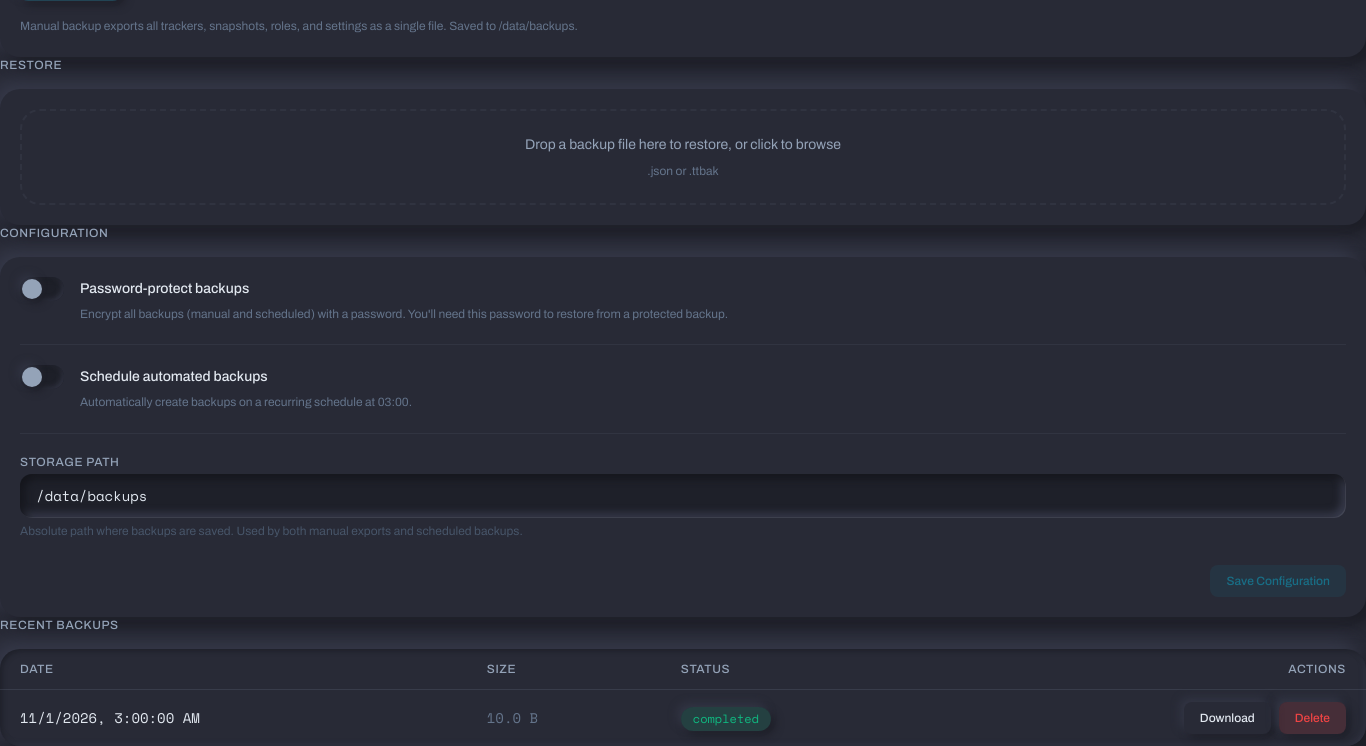
Test case: BackupsSection errors › shows a failed download once, in Recent Backups
(page scrolled)
Click the button "Download" at [1227, 718], box x1=1184 y1=702 x2=1271 y2=734
(page scrolled)
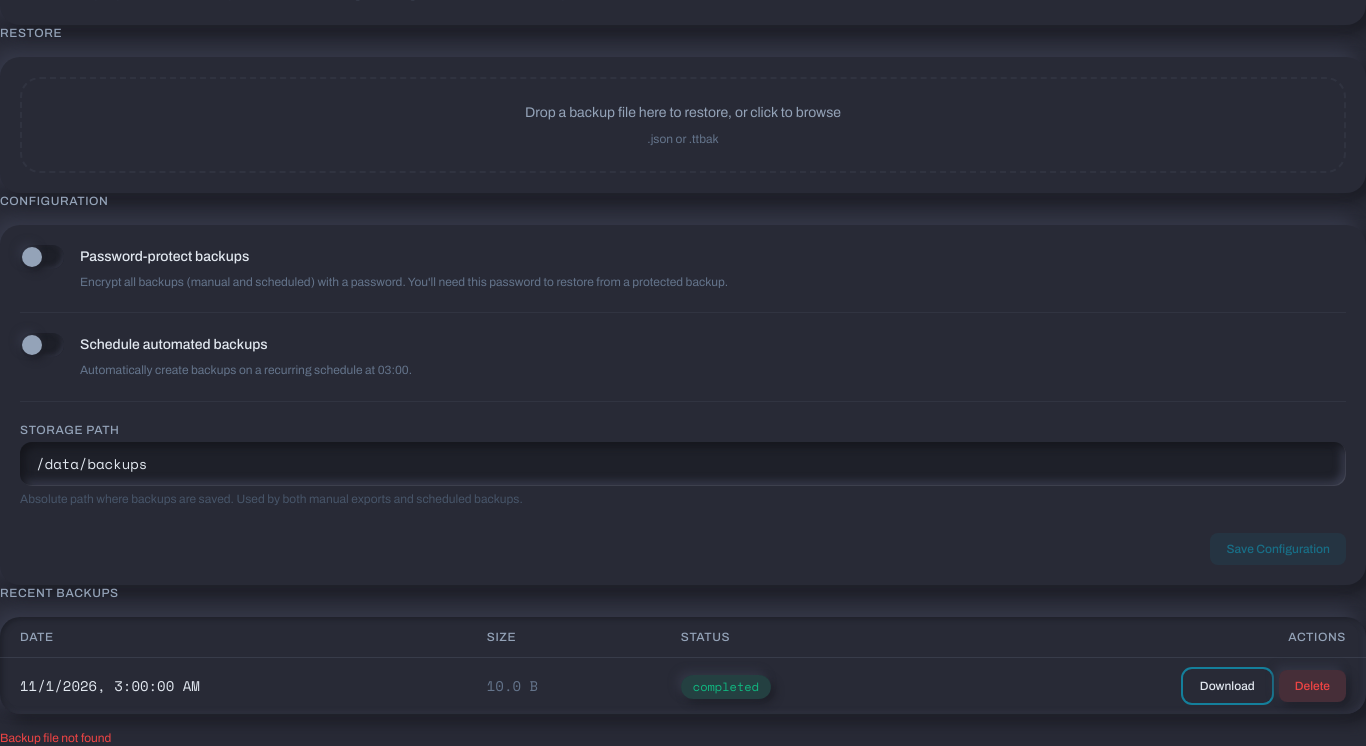
Check: the text "Backup file not found" is shown once, box x1=0 y1=731 x2=111 y2=745
